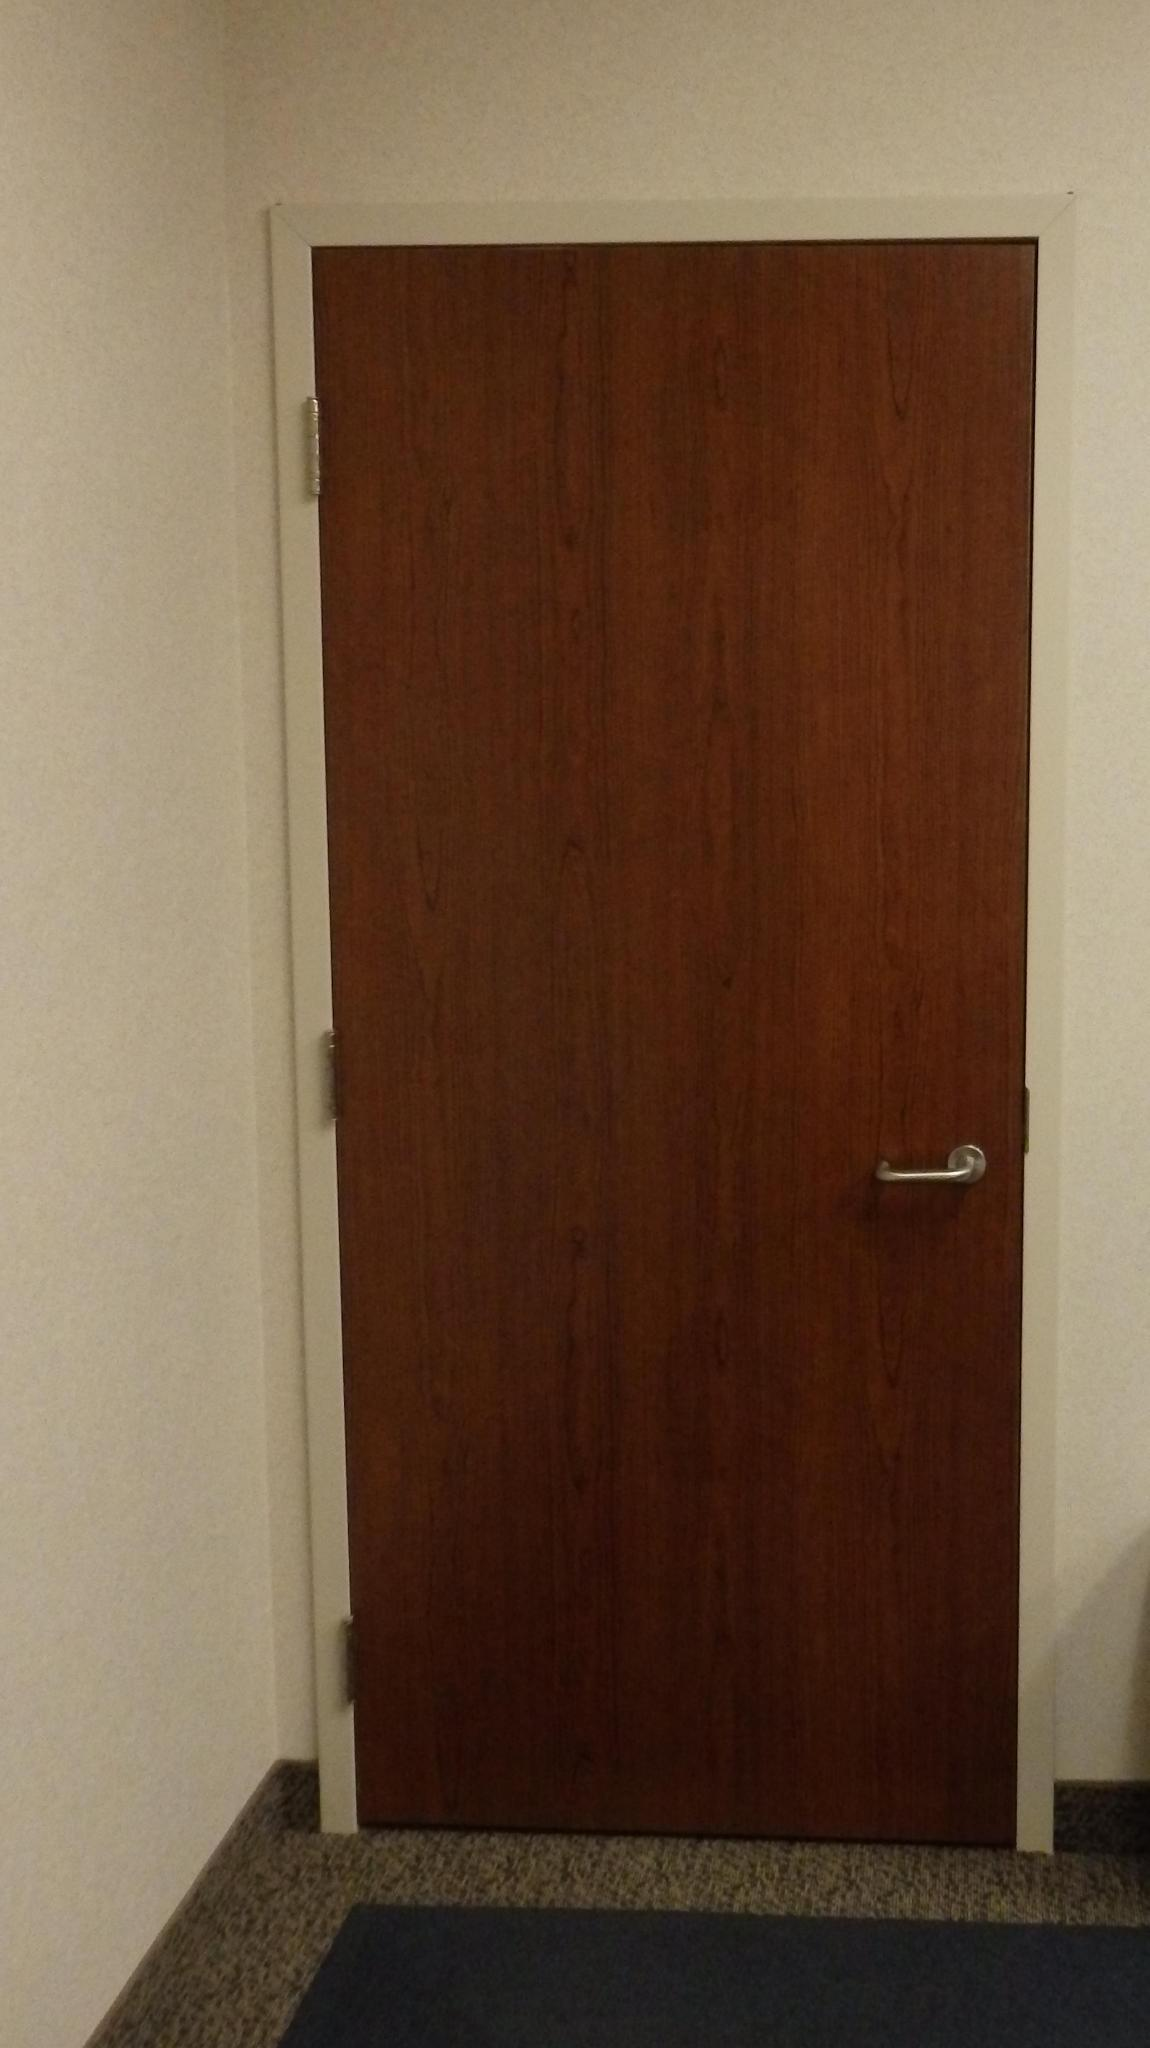door: (328, 304, 1011, 1782)
handle: (870, 1104, 987, 1228)
